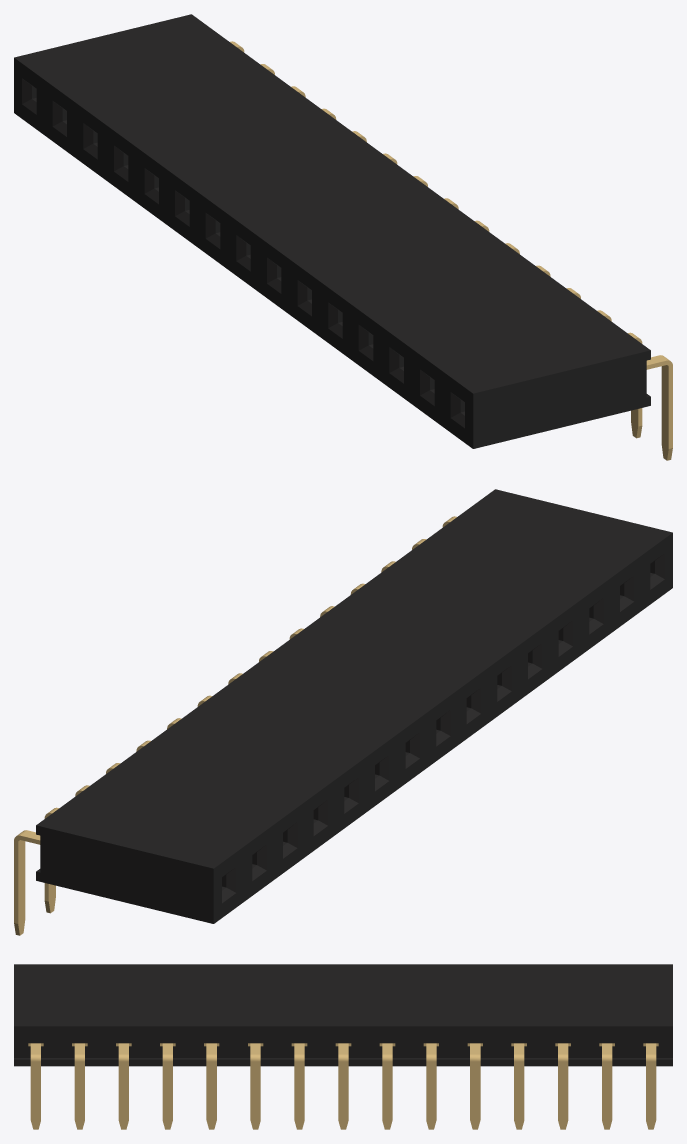
The model's file is kc-pinsocket_1x15_p2.54mm_horizontal.glb.
The picture shows the model from 3 angles, top to bottom: view 1: azimuth 30°, elevation 25°; view 2: azimuth 150°, elevation 25°; view 3: azimuth 270°, elevation 25°; orthographic projection. The views are drawn at different scales.
Parts seen in each view (by area): view 1: 0_0_0_0, 0.75_0.5_0.25_0.9; view 2: 0_0_0_0, 0.75_0.5_0.25_0.9; view 3: 0_0_0_0, 0.75_0.5_0.25_0.9.
Part boxes in pixels (x1=…): 0_0_0_0: x1=14, y1=14, x2=650, y2=448; 0.75_0.5_0.25_0.9: x1=230, y1=41, x2=672, y2=460; 0_0_0_0: x1=36, y1=489, x2=672, y2=923; 0.75_0.5_0.25_0.9: x1=14, y1=516, x2=456, y2=935; 0_0_0_0: x1=14, y1=964, x2=672, y2=1066; 0.75_0.5_0.25_0.9: x1=28, y1=1043, x2=658, y2=1129.
Size of the model in its own units: 1.01 by 0.5839 by 3.81.
